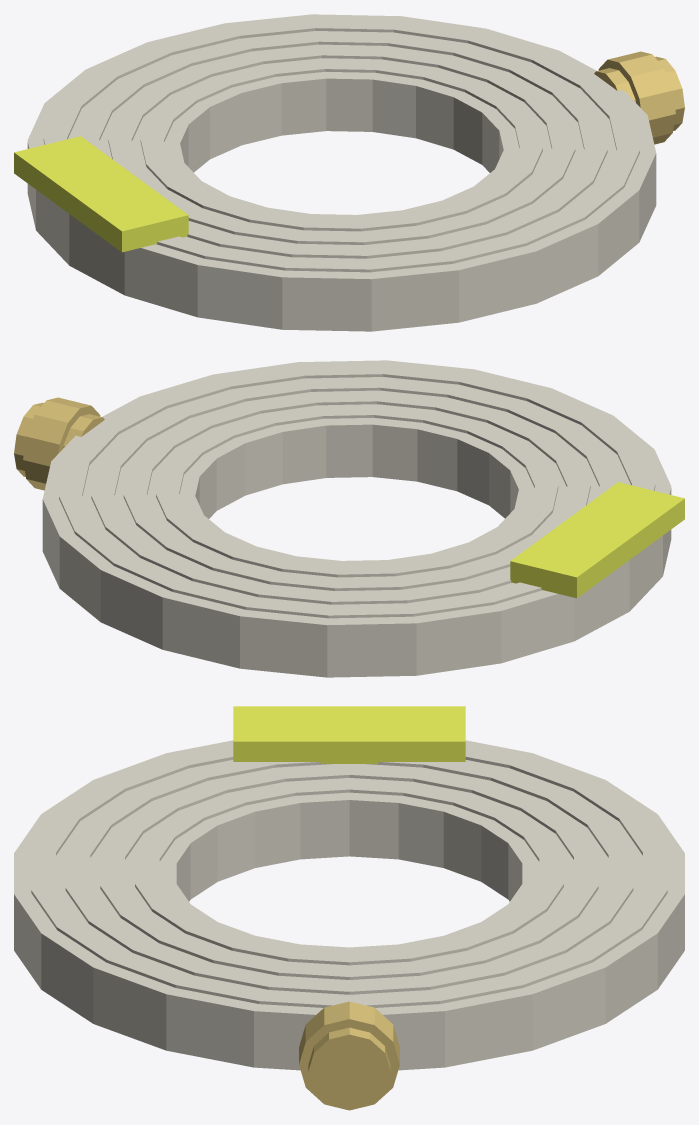
Rendered from fire-and-emergency-services-coiled-hose-length-1a372bed__29905.glb.
3 renders of one model, top to bottom at view 1: azimuth 30°, elevation 25°; view 2: azimuth 150°, elevation 25°; view 3: azimuth 270°, elevation 25°, orthographic. The views are drawn at different scales.
Visible parts, largest first — view 1: coiled-hose-length; view 2: coiled-hose-length; view 3: coiled-hose-length.
Part boxes in pixels (<box>): coiled-hose-length: <box>14,14,684,331</box>; coiled-hose-length: <box>14,360,684,677</box>; coiled-hose-length: <box>14,706,684,1110</box>.
Bounding box in the file's own units: 0.895 × 0.1288 × 0.8077.
